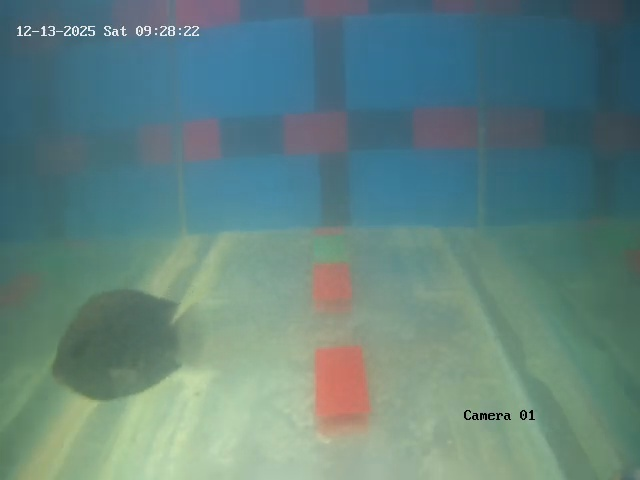fish: (45, 290, 193, 400)
